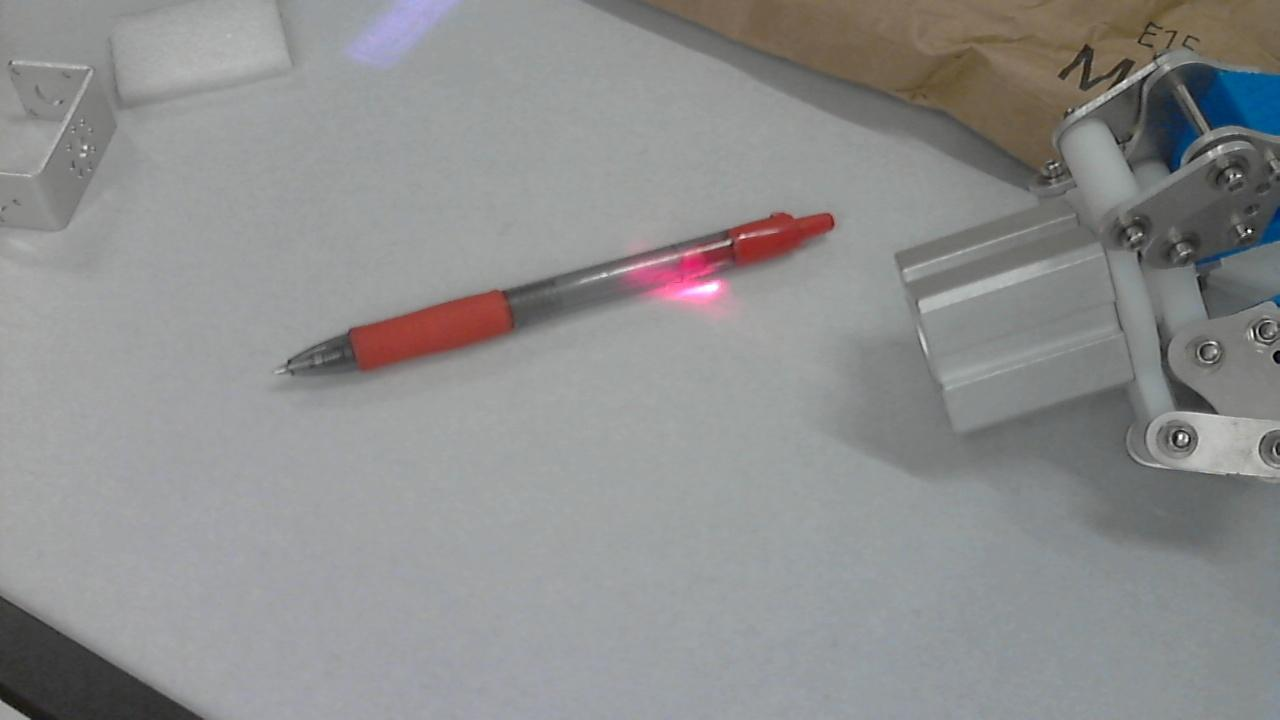Object ballpoint pen - Material plastic - Color clear - Pdfname Tg2wygrqE5uZ: (618, 243, 712, 298)
